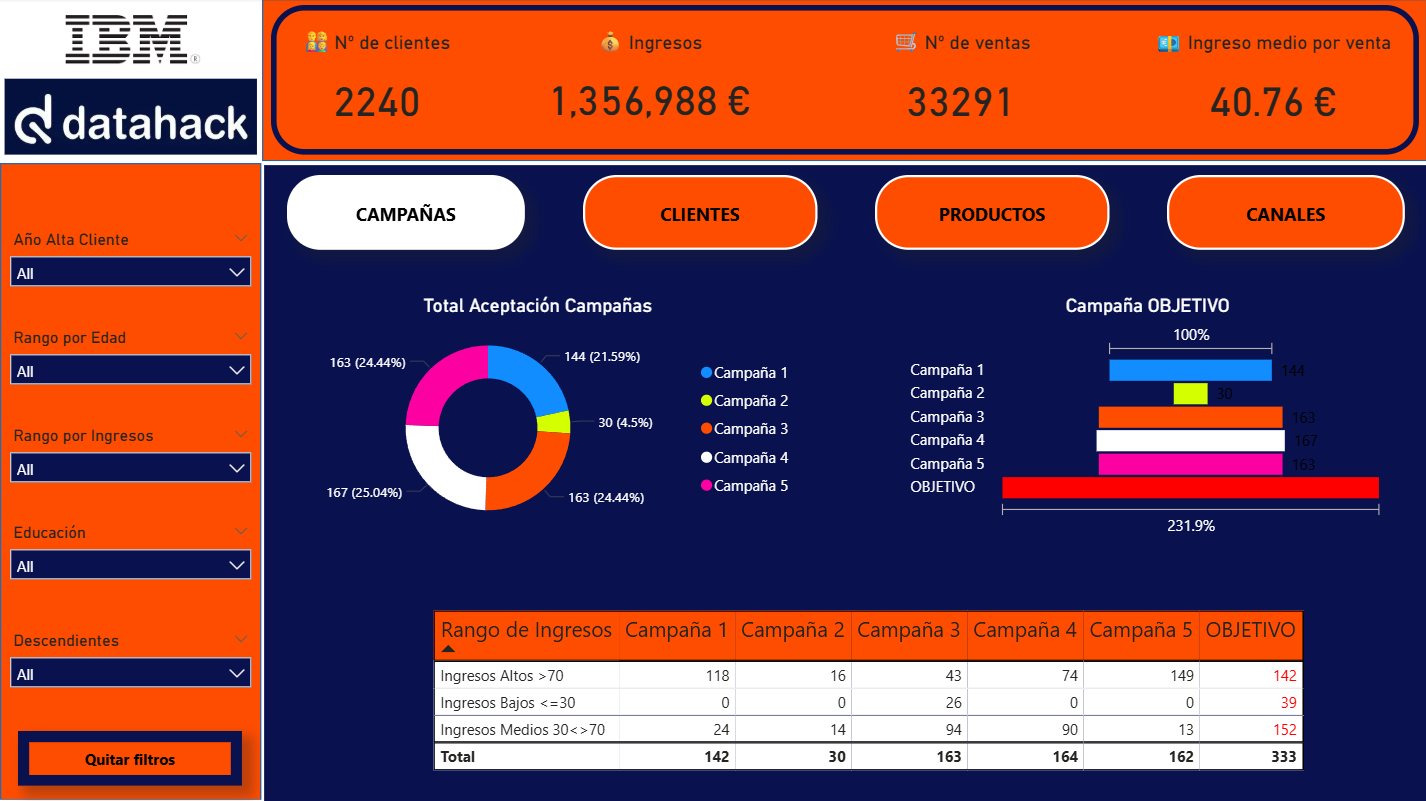

What the dashboard file says about the page in this screenshot:
{"tool":"powerbi","page":{"name":"Campañas","canvas":[1280,720],"ordinal":0},"visuals":[{"type":"shape","box":[234.8,0,1045.2,147.1],"z":0},{"type":"shape","box":[243.9,6,1028,134],"z":1000},{"type":"shape","box":[0,147.1,235.8,572.5],"z":2000},{"type":"slicer","fields":{"Values":["Dim_Customers.Rango_Year_Birth"]},"box":[0,291.3,235.8,87.7],"z":3000},{"type":"slicer","fields":{"Values":["Dim_Calendar_DAX.Date.Variación.Jerarquía de fechas.Año"]},"box":[0,203.6,235.8,87.7],"z":4000},{"type":"slicer","fields":{"Values":["Dim_Customers.Rango_Income"]},"box":[0,379,235.8,86.7],"z":5000},{"type":"card","title":"👨👩👧👦 Nº de clientes","fields":{"Values":["DAX_Measures.Total Clientes"]},"box":[234.8,26.2,207.6,105.8],"z":6000},{"type":"slicer","fields":{"Values":["Dim_Customers.Education"]},"box":[0,465.6,235.8,87.7],"z":7000},{"type":"actionButton","box":[17.1,656.1,200.6,49.4],"z":8000},{"type":"slicer","fields":{"Values":["Dim_Customers.Descendientes"]},"box":[0,562.4,235.8,80.6],"z":9000},{"type":"image","box":[42.9,0,150.6,73.2],"z":10000},{"type":"image","box":[0,66.5,235.8,80.6],"z":11000},{"type":"shape","box":[236.3,148.5,1043.7,572],"z":12000},{"type":"actionButton","box":[258,158.2,212.7,66.5],"z":13000},{"type":"actionButton","box":[523.1,158.2,209.6,66.5],"z":14000},{"type":"actionButton","box":[784.1,158.2,209.6,66.5],"z":15000},{"type":"actionButton","box":[1046.2,158.2,212.7,66.5],"z":16000},{"type":"card","title":"💰 Ingresos","fields":{"Values":["DAX_Measures.Total Ventas"]},"box":[442.5,26.2,279.2,105.8],"z":17000},{"type":"card","title":"🛒 Nº de ventas","fields":{"Values":["DAX_Measures.Nº total ventas"]},"box":[721.6,26.2,279.2,105.8],"z":18000},{"type":"card","title":"💶 Ingreso medio por venta","fields":{"Values":["DAX_Measures.Ingreso medio por compra"]},"box":[1000.8,26.2,279.2,105.8],"z":19000},{"type":"donutChart","title":"Total Aceptación Campañas","fields":{"Y":["DAX_Measures.Total Campaña 1","DAX_Measures.Total Campaña 2","DAX_Measures.Total Campaña 3","DAX_Measures.Total Campaña 4","DAX_Measures.Total Campaña 5"]},"box":[243.9,265.1,477.7,220.7],"z":20000},{"type":"funnel","title":"Campaña OBJETIVO","fields":{"Y":["DAX_Measures.Total Campaña 1","DAX_Measures.Total Campaña 2","DAX_Measures.Total Campaña 3","DAX_Measures.Total Campaña 4","DAX_Measures.Total Campaña 5","Sum(Fact_marketing_campaign.Response)"]},"box":[811.3,265.1,434.4,220.7],"z":21000},{"type":"tableEx","fields":{"Values":["Dim_Customers.Rango_Income","DAX_Measures.Total Campaña 1","DAX_Measures.Total Campaña 2","DAX_Measures.Total Campaña 3","DAX_Measures.Total Campaña 4","DAX_Measures.Total Campaña 5","Sum(Fact_marketing_campaign.Response)"]},"box":[383,543.6,811.3,176.4],"z":22000}]}

Visuals, with their boxes in screenshot pixels (x1, y1, x2, y2), scaled from the page's 1280x720 canvas onto the 1426x801 screenshot:
shape: (x1=262, y1=0, x2=1425, y2=164)
shape: (x1=272, y1=7, x2=1417, y2=156)
shape: (x1=0, y1=164, x2=263, y2=800)
slicer - Dim_Customers.Rango_Year_Birth: (x1=0, y1=324, x2=263, y2=422)
slicer - Dim_Calendar_DAX.Date.Variación.Jerarquía de fechas.Año: (x1=0, y1=227, x2=263, y2=324)
slicer - Dim_Customers.Rango_Income: (x1=0, y1=422, x2=263, y2=518)
"👨👩👧👦 Nº de clientes" card: (x1=262, y1=29, x2=493, y2=147)
slicer - Dim_Customers.Education: (x1=0, y1=518, x2=263, y2=616)
actionButton: (x1=19, y1=730, x2=243, y2=785)
slicer - Dim_Customers.Descendientes: (x1=0, y1=626, x2=263, y2=715)
image: (x1=48, y1=0, x2=216, y2=81)
image: (x1=0, y1=74, x2=263, y2=164)
shape: (x1=263, y1=165, x2=1425, y2=800)
actionButton: (x1=287, y1=176, x2=524, y2=250)
actionButton: (x1=583, y1=176, x2=816, y2=250)
actionButton: (x1=874, y1=176, x2=1107, y2=250)
actionButton: (x1=1166, y1=176, x2=1402, y2=250)
"💰 Ingresos" card: (x1=493, y1=29, x2=804, y2=147)
"🛒 Nº de ventas" card: (x1=804, y1=29, x2=1115, y2=147)
"💶 Ingreso medio por venta" card: (x1=1115, y1=29, x2=1425, y2=147)
"Total Aceptación Campañas" donutChart: (x1=272, y1=295, x2=804, y2=540)
"Campaña OBJETIVO" funnel: (x1=904, y1=295, x2=1388, y2=540)
tableEx - Dim_Customers.Rango_Income x DAX_Measures.Total Campaña 1: (x1=427, y1=605, x2=1331, y2=800)
